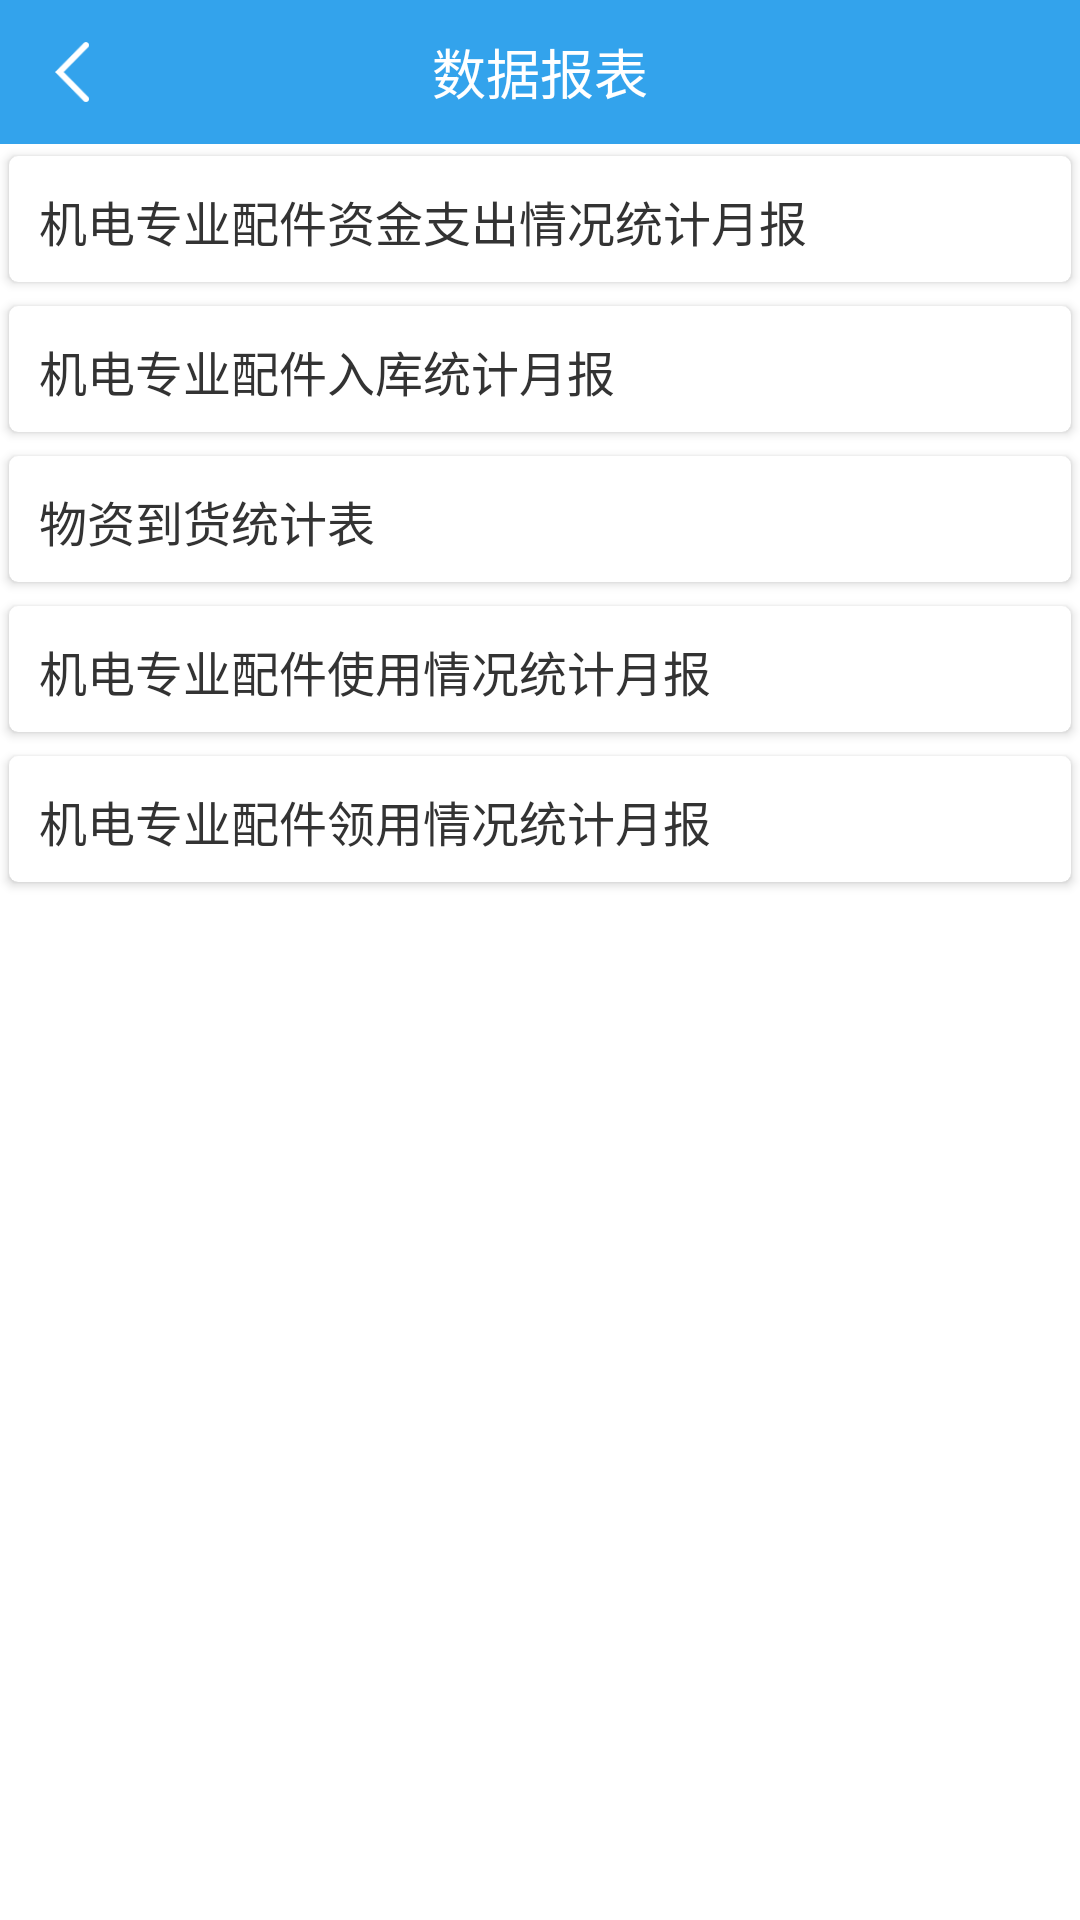

Point at icon controls on the screen. Image size 1080 x 1920, points as [x,y].
back: [72,72]
